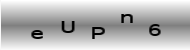6: (147, 23, 161, 36)
P: (90, 26, 105, 39)
U: (59, 20, 75, 33)
e: (30, 29, 43, 39)
n: (120, 13, 133, 24)
